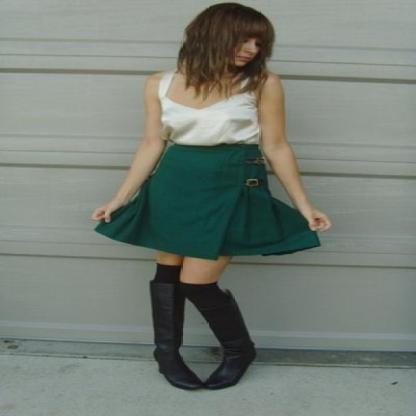shirt: (155, 68, 267, 152)
shoe: (150, 280, 255, 390)
skirt: (95, 142, 320, 260)
